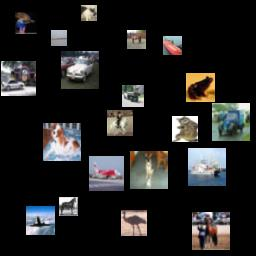airplane: (89, 156, 124, 191), (26, 206, 55, 235)
automobile: (61, 51, 99, 89), (1, 61, 36, 96)
bird: (121, 210, 147, 236), (15, 12, 37, 34)
cat: (172, 116, 198, 142), (81, 5, 97, 21)
dog: (130, 151, 168, 189), (43, 123, 81, 161)
frog: (186, 73, 215, 102)
ship: (188, 148, 226, 186), (163, 36, 182, 55), (51, 30, 67, 46)
truck: (212, 103, 250, 141), (122, 85, 144, 107)
